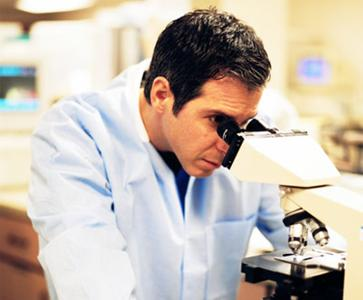person: (29, 9, 295, 300)
